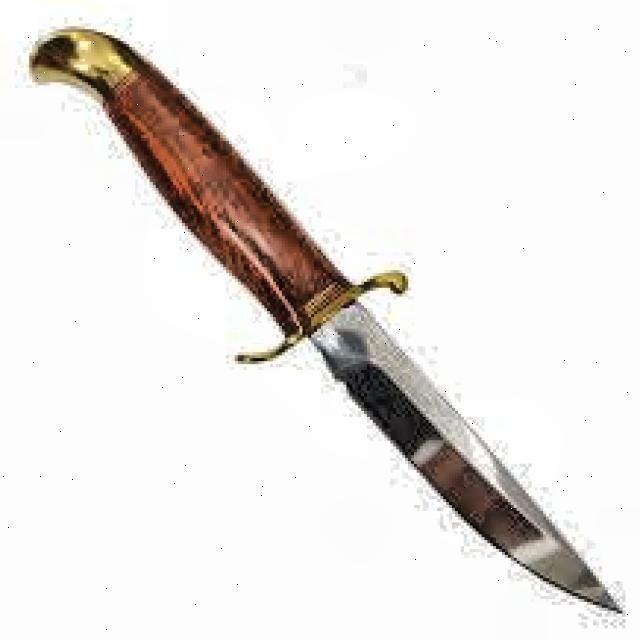knife: (31, 31, 624, 616)
